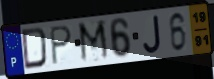6: (108, 16, 133, 60), (168, 11, 189, 52)
D: (21, 25, 49, 71)
J: (142, 14, 163, 55)
M: (77, 18, 112, 65)
P: (49, 24, 74, 67)
